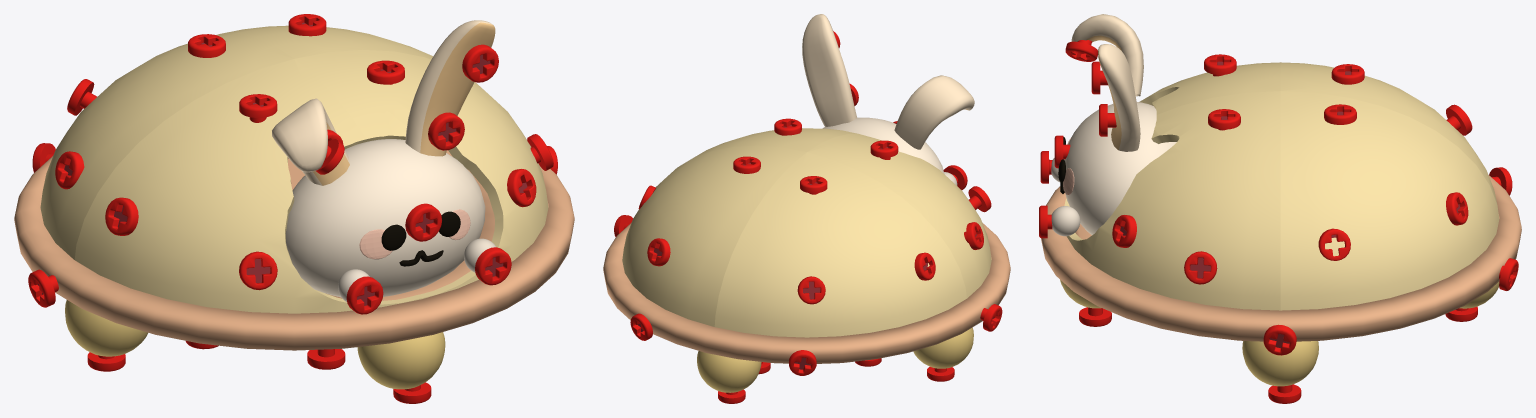
Rendered from level_4.fbx.
3 renders of one model, left to right at view 1: azimuth 30°, elevation 25°; view 2: azimuth 150°, elevation 25°; view 3: azimuth 270°, elevation 25°, orthographic. The views are drawn at different scales.
Visible parts, largest first — view 1: Sphere.006, Sphere.007, Sphere.005, Sphere.016, Sphere.002, obj_character1.001, obj_character1.002, Sphere.010, Sphere.001, Sphere.009, Sphere.017, obj_screw.152 (+20 smaller); view 2: Sphere.002, Sphere.001, Sphere.007, Sphere.006, obj_character1.001, obj_character1.002, Sphere.011, Sphere.016, Sphere.005, Sphere.009, obj_screw.147, obj_screw.155 (+10 smaller); view 3: Sphere.001, Sphere.016, Sphere.007, Sphere.005, Sphere.002, Sphere.006, obj_character1.001, Sphere.008, obj_character1.002, obj_screw.150, obj_screw.157, Sphere.014 (+12 smaller).
Boxes of the visible parts, x1,y1,x2,y2 form: Sphere.006: [74, 59, 421, 313]; Sphere.007: [14, 156, 574, 350]; Sphere.005: [285, 139, 485, 297]; Sphere.016: [295, 50, 548, 298]; Sphere.002: [40, 33, 293, 259]; obj_character1.001: [405, 20, 495, 156]; obj_character1.002: [272, 98, 349, 185]; Sphere.010: [357, 332, 445, 389]; Sphere.001: [220, 25, 433, 59]; Sphere.009: [65, 300, 147, 356]; Sphere.017: [288, 150, 494, 300]; obj_screw.152: [239, 251, 277, 290]; Sphere.002: [714, 152, 966, 337]; Sphere.001: [622, 145, 806, 326]; Sphere.007: [603, 223, 1010, 363]; Sphere.006: [807, 134, 991, 298]; obj_character1.001: [802, 14, 857, 126]; obj_character1.002: [894, 75, 974, 149]; Sphere.011: [697, 351, 761, 392]; Sphere.016: [685, 128, 858, 162]; Sphere.005: [822, 117, 944, 173]; Sphere.009: [913, 327, 973, 368]; obj_screw.147: [797, 276, 825, 304]; obj_screw.155: [789, 350, 816, 375]; Sphere.001: [1280, 91, 1499, 310]; Sphere.016: [1066, 91, 1280, 310]; Sphere.007: [1041, 175, 1521, 341]; Sphere.005: [1058, 102, 1176, 235]; Sphere.002: [1280, 62, 1497, 204]; Sphere.006: [1064, 62, 1280, 206]; obj_character1.001: [1098, 44, 1140, 151]; Sphere.008: [1242, 341, 1318, 386]; obj_character1.002: [1071, 14, 1143, 96]; obj_screw.150: [1184, 251, 1217, 284]; obj_screw.157: [1263, 324, 1296, 355]; Sphere.014: [1051, 206, 1080, 236].
Size of the model in its own units: 11.51 by 7.57 by 10.76.
